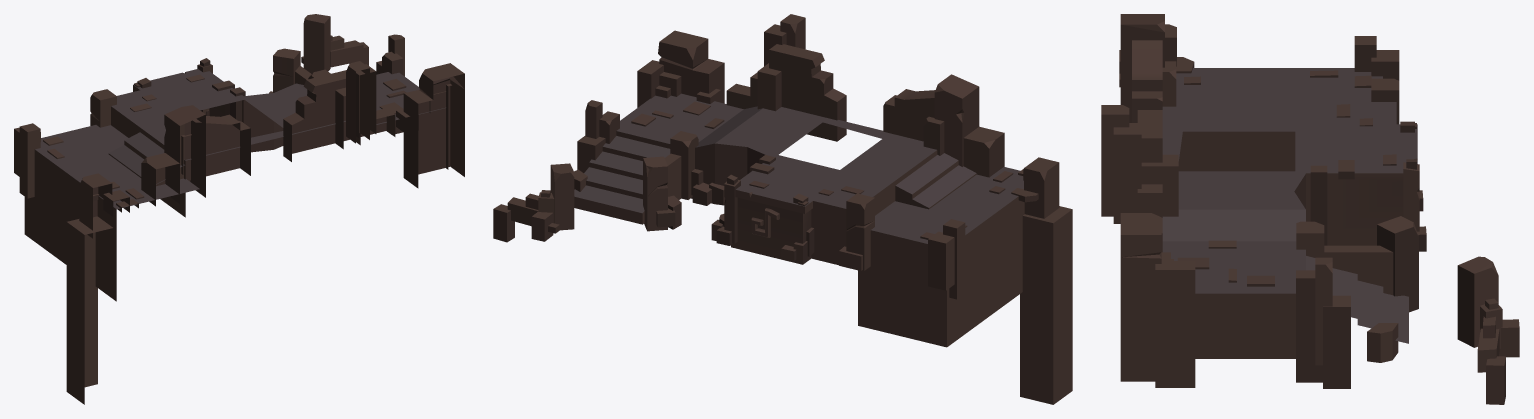
File: ENV_RTS_Ruins_Main_01.fbx
3 renders of one model, left to right at view 1: azimuth 30°, elevation 25°; view 2: azimuth 150°, elevation 25°; view 3: azimuth 270°, elevation 25°, orthographic. The views are drawn at different scales.
Parts seen in each view (by area): view 1: ENV_RTS_Ruins_Main_01; view 2: ENV_RTS_Ruins_Main_01; view 3: ENV_RTS_Ruins_Main_01.
Boxes of the visible parts, <box> form: ENV_RTS_Ruins_Main_01: <box>14,14,464,404</box>; ENV_RTS_Ruins_Main_01: <box>493,14,1072,404</box>; ENV_RTS_Ruins_Main_01: <box>1101,14,1519,404</box>.
Size of the model in its own units: 2508 by 1622 by 1565.
